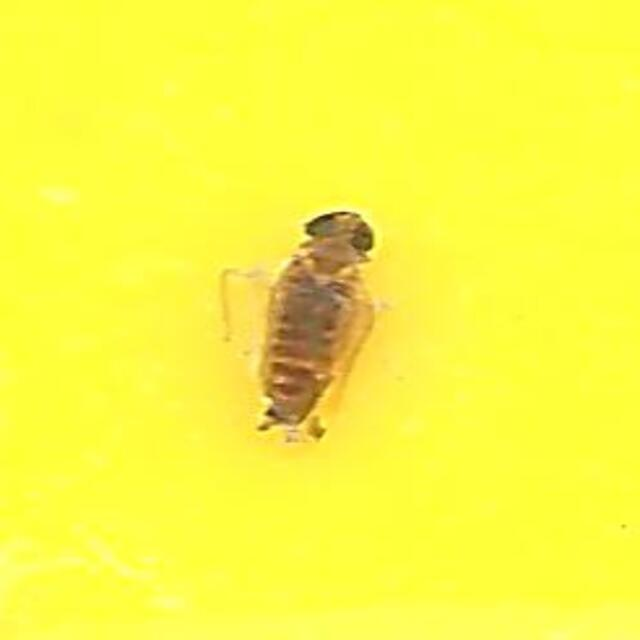Hemiptera: (260, 206, 380, 434)
